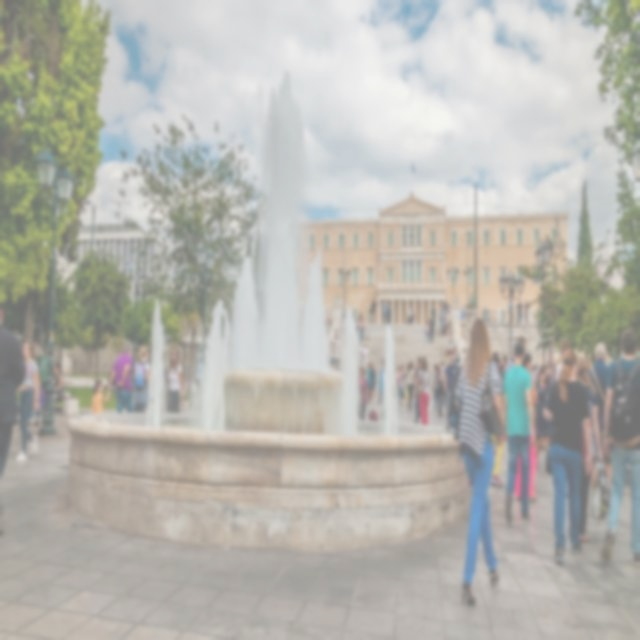pessoa: (452, 316, 506, 609), (542, 347, 594, 567), (597, 324, 640, 572), (0, 290, 27, 542), (502, 341, 537, 523), (576, 356, 604, 544), (512, 350, 540, 505), (587, 342, 613, 496), (13, 337, 42, 465), (490, 350, 506, 487), (106, 340, 134, 412), (535, 362, 551, 472), (27, 334, 45, 428), (132, 346, 151, 414), (445, 364, 463, 434), (168, 348, 184, 413), (417, 356, 430, 425), (90, 379, 112, 416), (444, 354, 458, 411), (554, 338, 570, 382), (414, 356, 423, 424), (358, 366, 369, 420), (52, 362, 65, 402), (435, 367, 445, 418), (406, 360, 415, 412), (402, 362, 412, 408), (432, 363, 439, 412), (500, 354, 510, 386), (369, 361, 376, 404), (365, 361, 372, 403), (396, 366, 403, 408), (369, 296, 379, 324), (443, 308, 452, 339), (428, 312, 436, 344), (443, 366, 448, 414), (444, 338, 454, 361), (106, 367, 116, 390), (401, 362, 406, 406), (382, 298, 389, 324), (516, 298, 523, 324), (466, 472, 476, 490), (358, 342, 363, 376), (380, 358, 384, 399), (358, 317, 364, 344), (363, 343, 369, 370), (439, 306, 444, 338), (508, 298, 514, 324), (589, 344, 596, 366), (424, 320, 430, 344), (524, 300, 530, 324), (41, 383, 46, 410), (531, 364, 536, 390), (406, 305, 412, 324), (498, 358, 504, 377), (534, 363, 540, 382), (518, 334, 526, 348), (333, 326, 338, 348), (443, 298, 448, 320), (454, 345, 459, 366), (442, 317, 448, 334), (331, 348, 336, 366), (440, 360, 445, 378), (508, 358, 516, 368), (50, 372, 54, 386), (483, 306, 486, 323), (413, 362, 418, 372), (355, 318, 359, 330), (418, 404, 421, 419), (359, 312, 362, 326), (410, 360, 414, 370), (412, 307, 414, 324), (448, 303, 452, 311), (352, 312, 355, 322), (406, 315, 409, 324), (438, 361, 442, 366)
